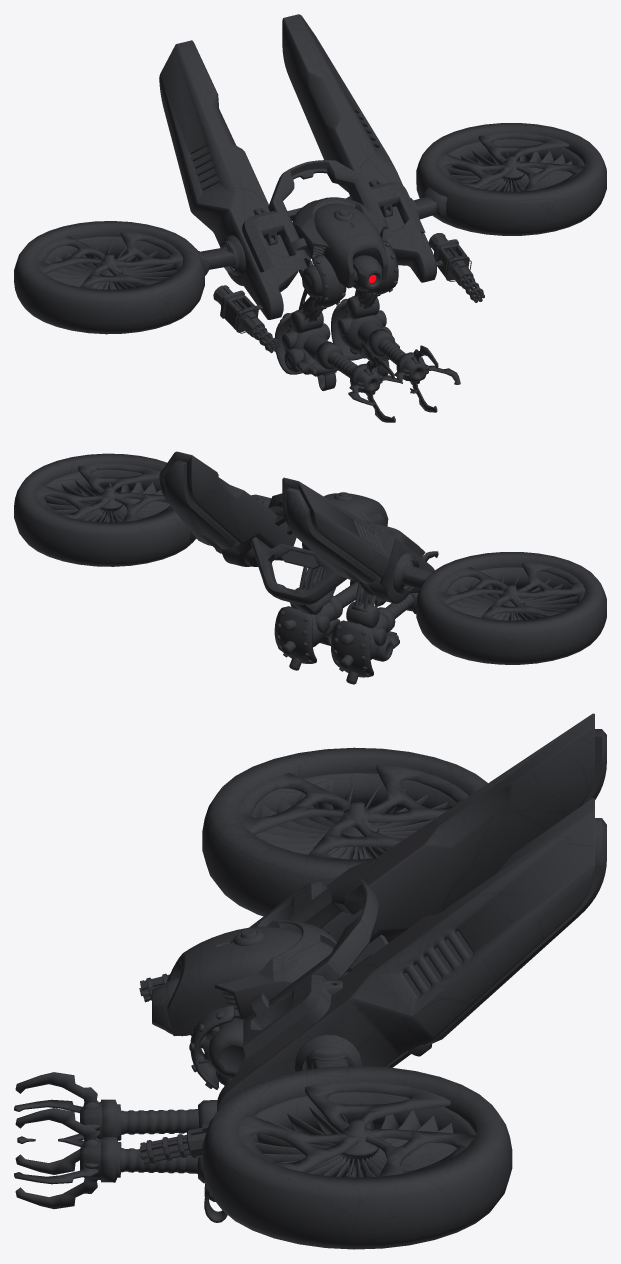
Rendered from drone.glb.
3 views of the same model, one above another, from view 1: azimuth 30°, elevation 25°; view 2: azimuth 150°, elevation 25°; view 3: azimuth 270°, elevation 25° (orthographic). The views are drawn at different scales.
Visible parts, largest first — view 1: body, cube 002, legs, gun; view 2: cube 002, body, legs; view 3: body, cube 002, legs, gun.
Part boxes in pixels (x1,y1,x2,y2): body: (159, 14, 436, 319); cube 002: (14, 123, 606, 334); legs: (274, 240, 460, 422); gun: (213, 233, 484, 353); cube 002: (14, 453, 606, 664); body: (159, 451, 434, 614); legs: (274, 542, 438, 684); body: (152, 713, 606, 1111); cube 002: (202, 747, 512, 1249); legs: (14, 1005, 244, 1222); gun: (139, 973, 216, 1164).
Size of the model in its own units: 2.94 by 1.36 by 1.64.
Materials: 3 (2 with a texture image).
